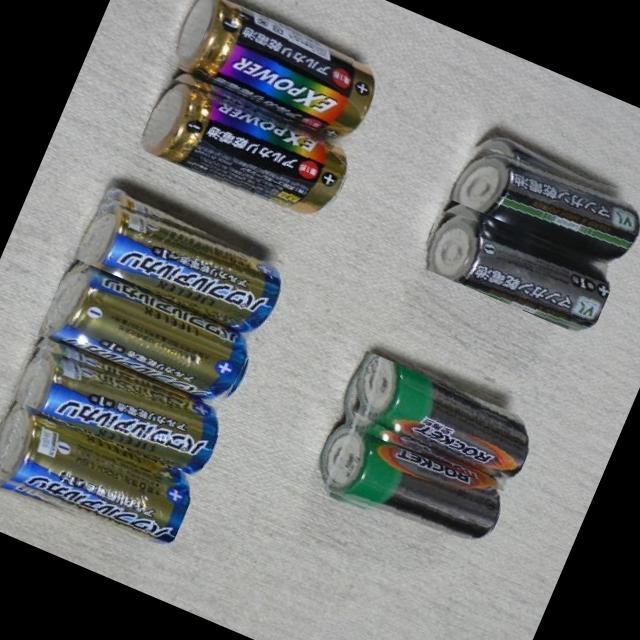Hazard: (135, 64, 360, 227), (68, 182, 294, 344), (4, 330, 229, 488), (36, 256, 259, 414), (0, 397, 198, 559), (164, 0, 386, 143), (331, 348, 538, 498), (413, 194, 618, 338), (304, 418, 508, 562), (444, 123, 640, 272)
